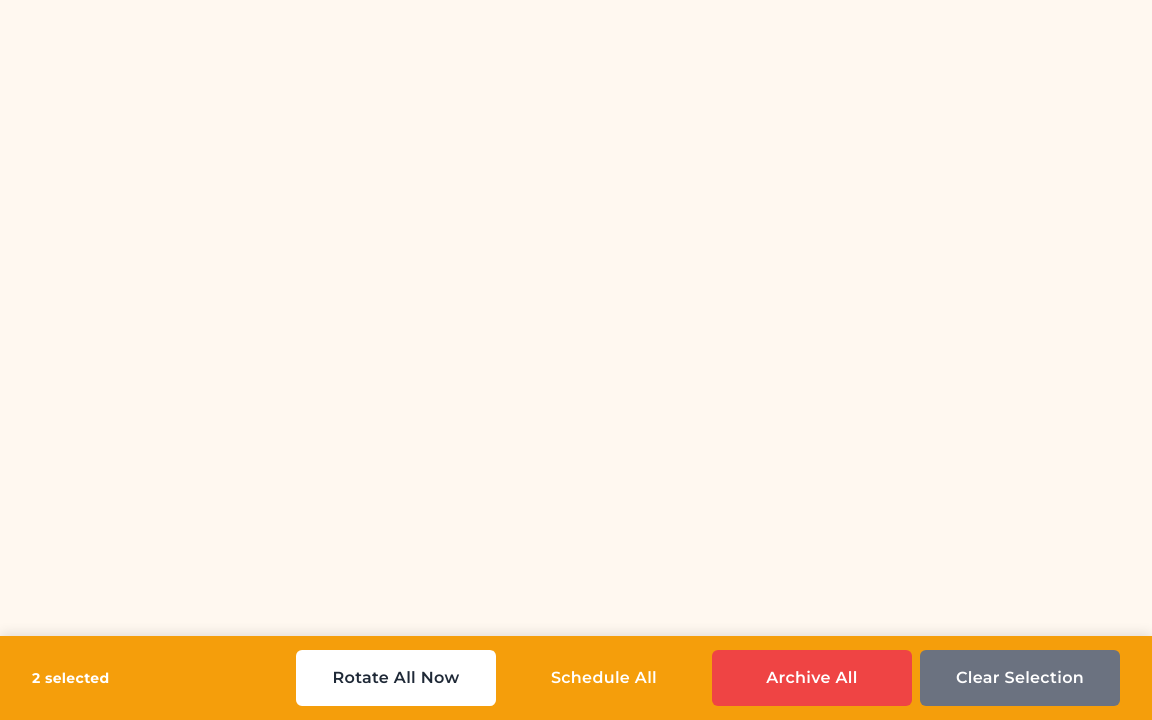
Scenario: BulkRotationActions › shows confirm dialog when Rotate All Now is clicked
The image size is (1152, 720).
Click the button "Rotate All Now".
click(396, 678)  # box [296,650,496,706]
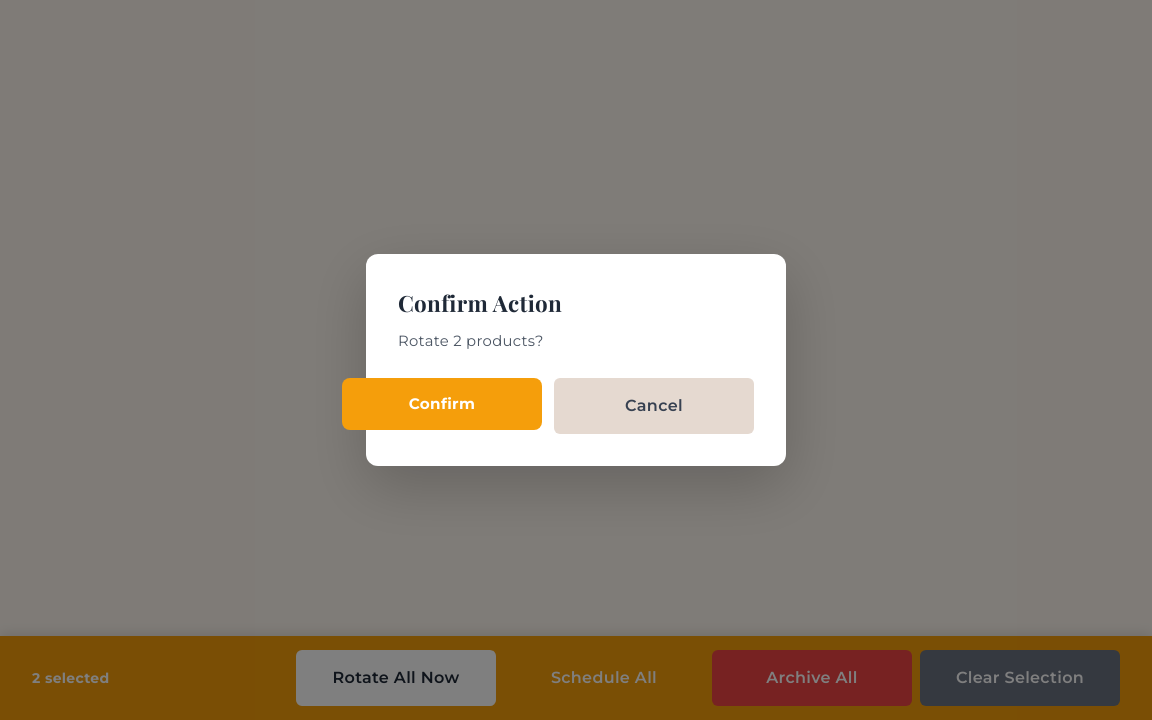
Expected: the heading "Confirm Action" is shown, [398,288,562,318]
